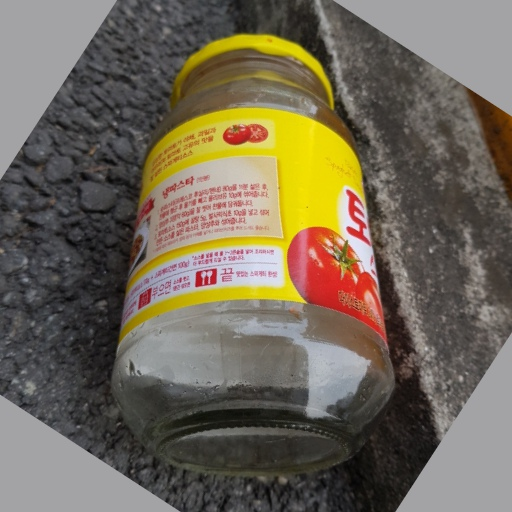Glass_5: (110, 34, 394, 475)
